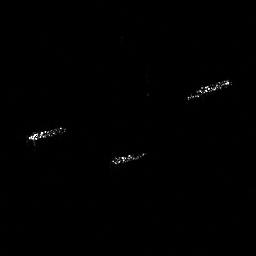ship: (187, 78, 230, 102), (27, 126, 68, 147), (112, 149, 148, 168)
